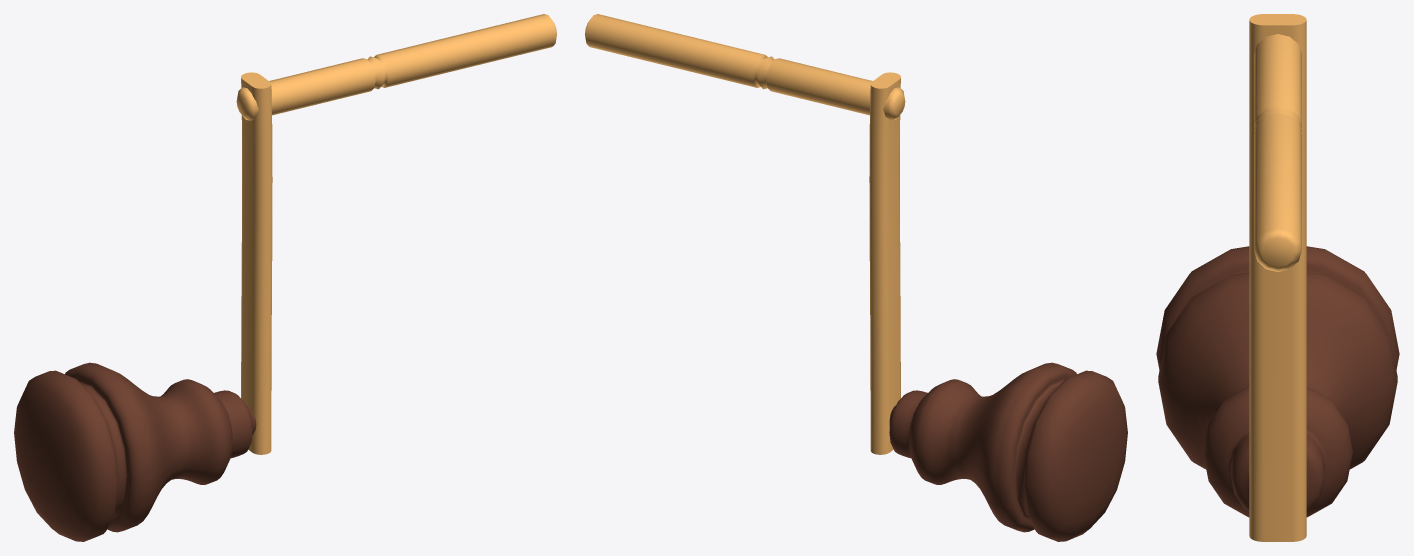
Rendered from Crank.fbx.
The picture shows the model from 3 angles, left to right: view 1: azimuth 30°, elevation 25°; view 2: azimuth 150°, elevation 25°; view 3: azimuth 270°, elevation 25°; orthographic projection. The views are drawn at different scales.
Visible parts, largest first — view 1: Crank; view 2: Crank; view 3: Crank.
Part boxes in pixels (x1,y1,x2,y2): Crank: (14,14,556,541); Crank: (585,14,1127,541); Crank: (1156,14,1399,541).
Bounding box in the file's own units: 290 × 221 × 84.87.
